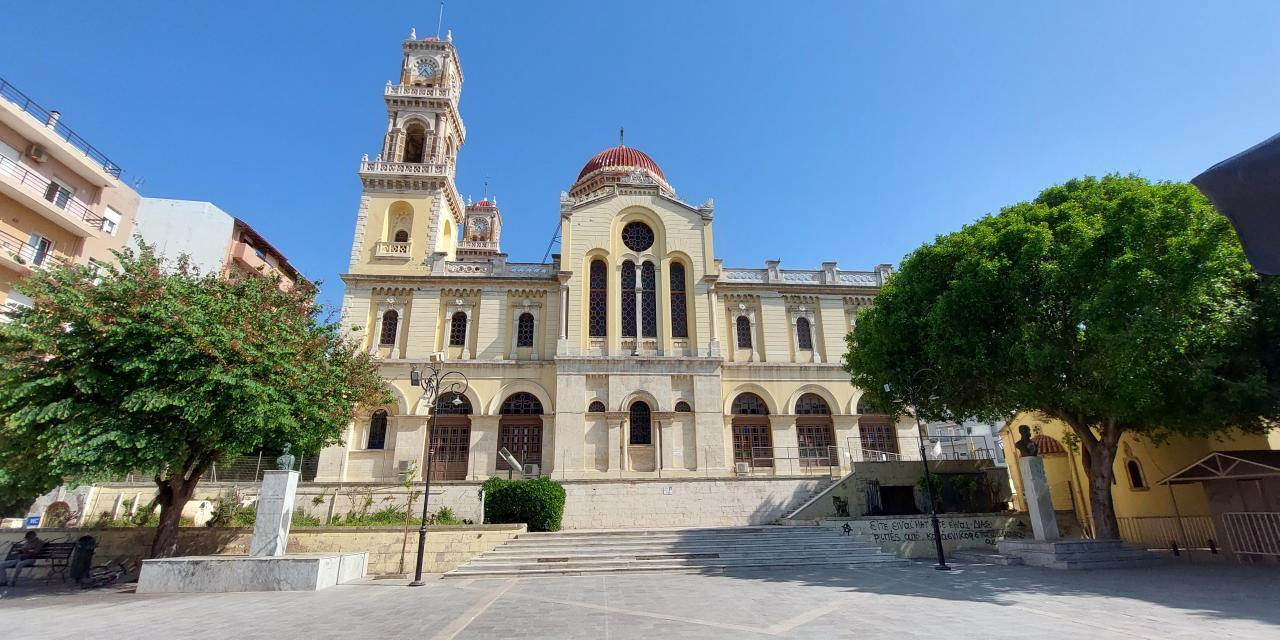Agios Minas: (313, 1, 926, 475)
